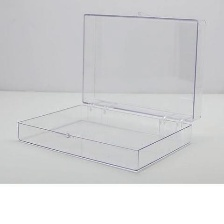plastic_box: (11, 4, 215, 178)
